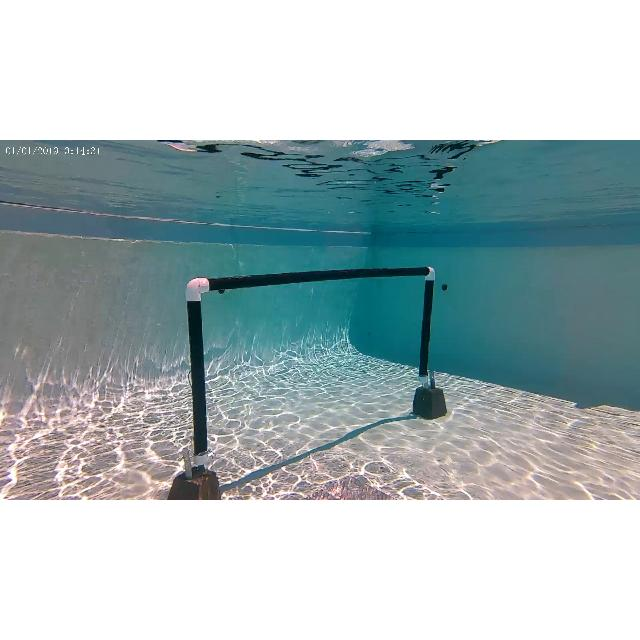prequal gate: (185, 266, 437, 466)
prequal gate leg l: (167, 278, 219, 500)
prequal gate leg r: (410, 264, 448, 421)
